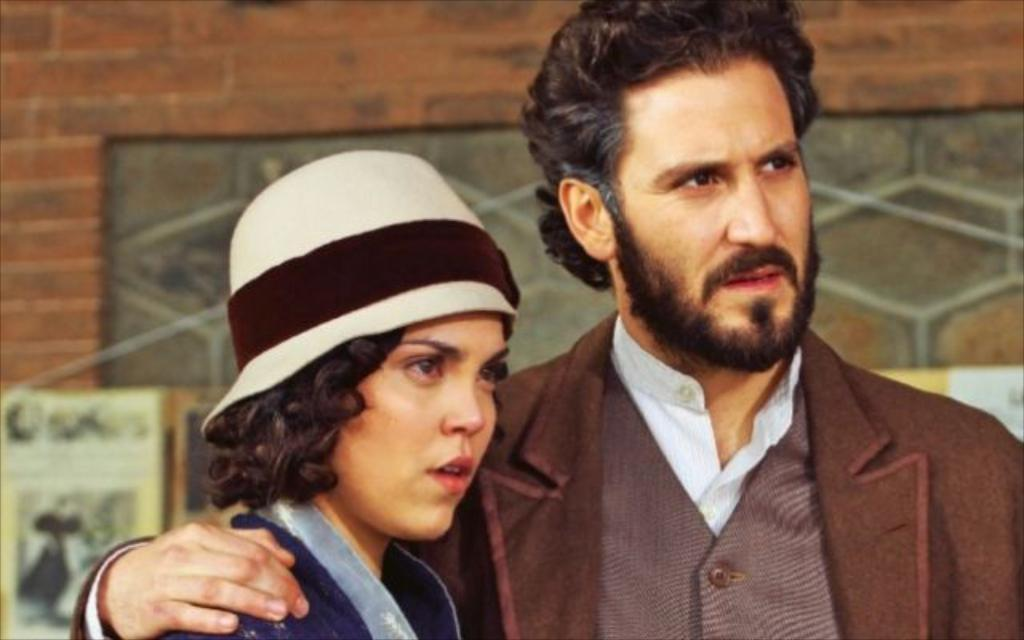Hat: (198, 149, 523, 429)
